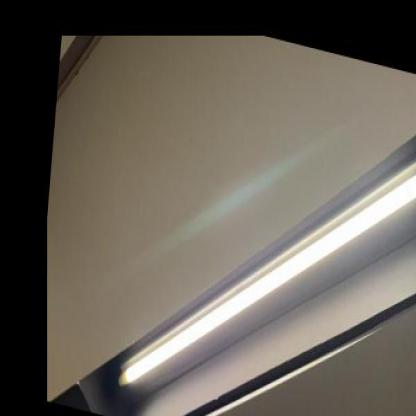light_on: (101, 57, 416, 414)
